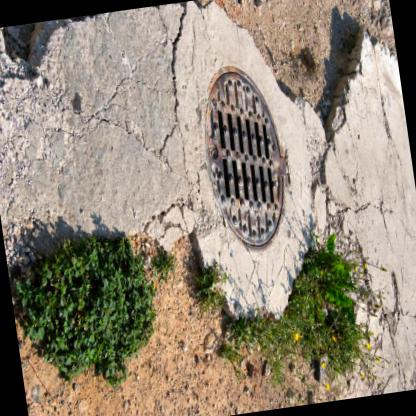manholes: (181, 50, 308, 268)
